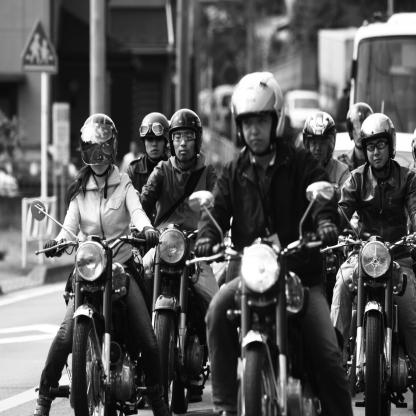Helmet: (227, 70, 290, 156), (79, 113, 119, 176), (358, 112, 397, 174), (169, 110, 203, 164), (303, 114, 334, 170), (344, 97, 370, 150), (140, 110, 166, 162), (408, 123, 416, 169)
